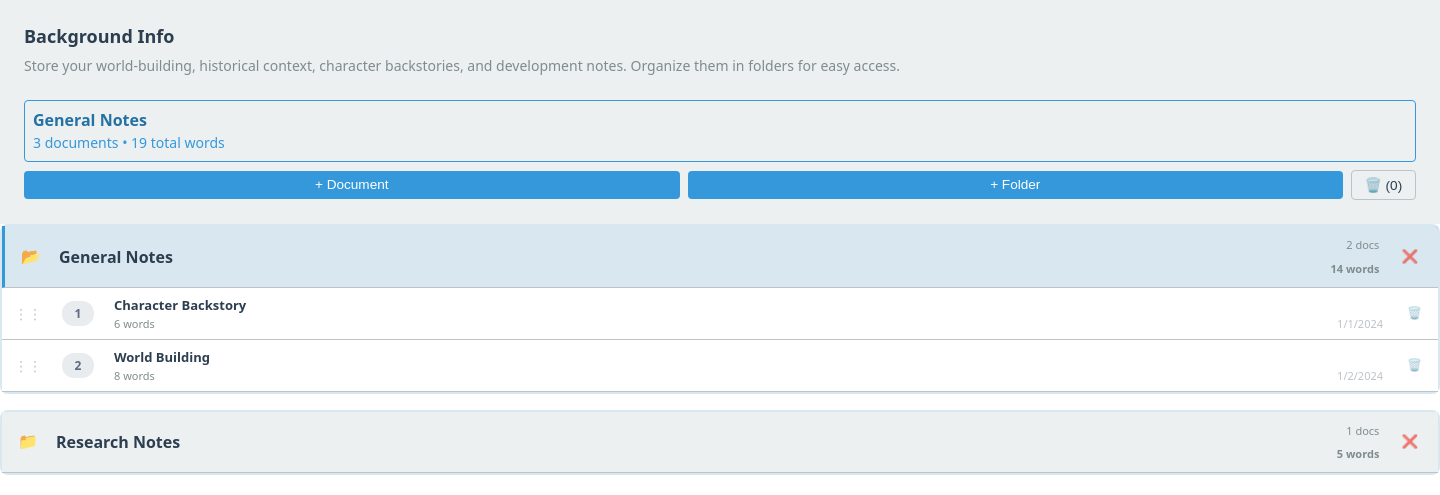
it: BackgroundList Component › cancels document title editing on Escape key
The image size is (1440, 495).
Double-click the text "Character Backstory".
double_click(180, 305)  # box [114,296,246,314]
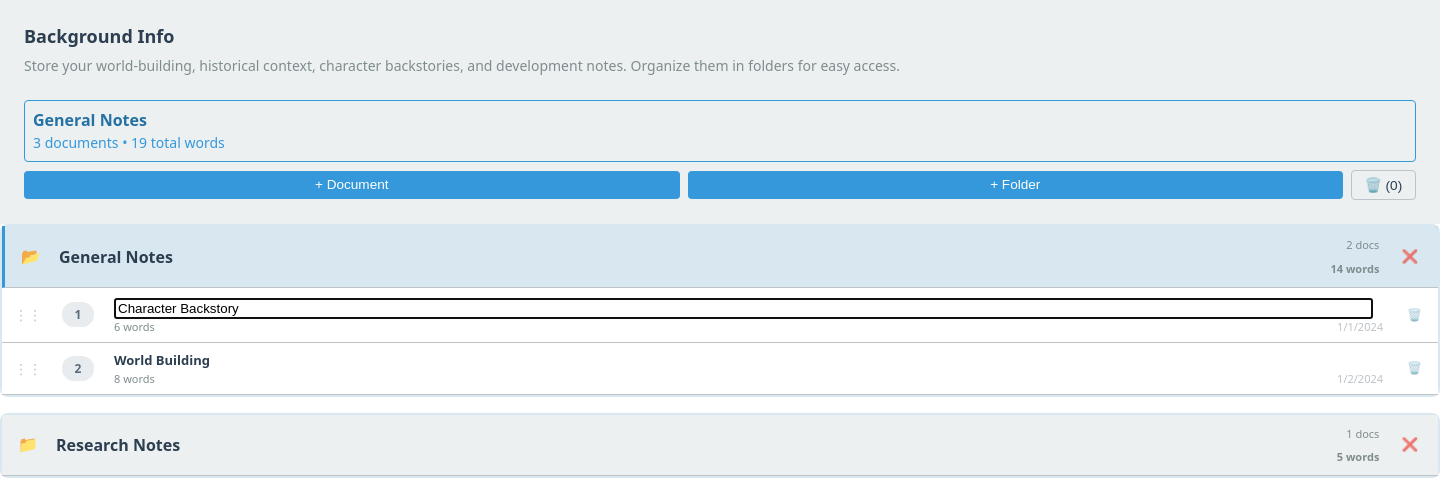
Replace the text in the field showing "Character Backstory" with "This should be cancelled" at (744, 308), box [114,298,1373,319]
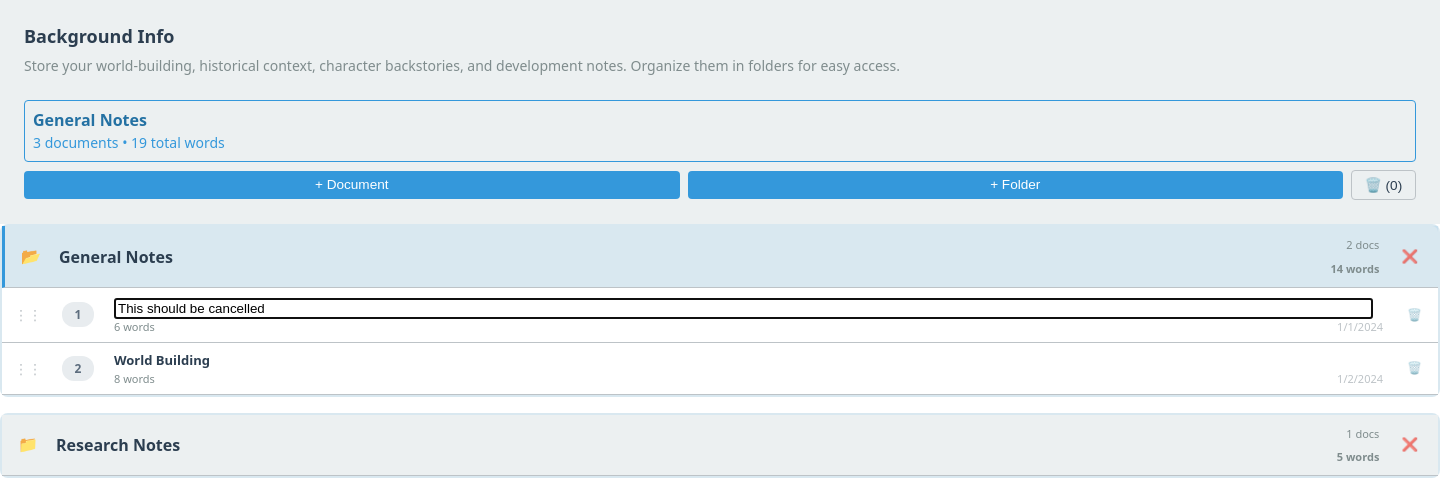
Press Escape in the field showing "Character Backstory", box [114,298,1373,319]
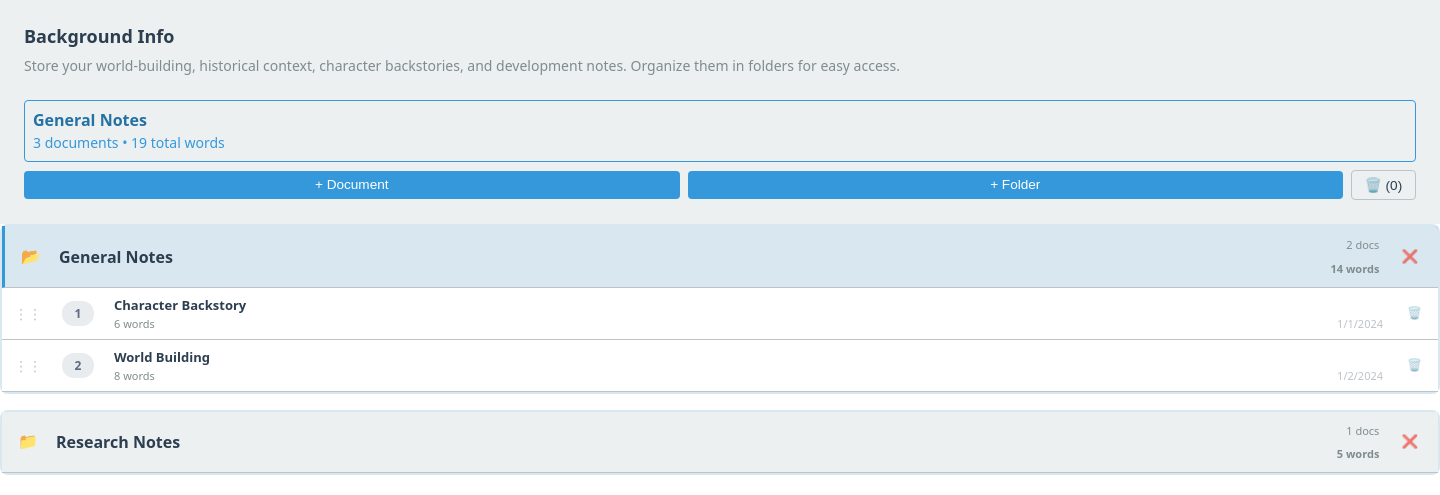
Result: the text "Character Backstory" is shown at [114,296,246,314]
